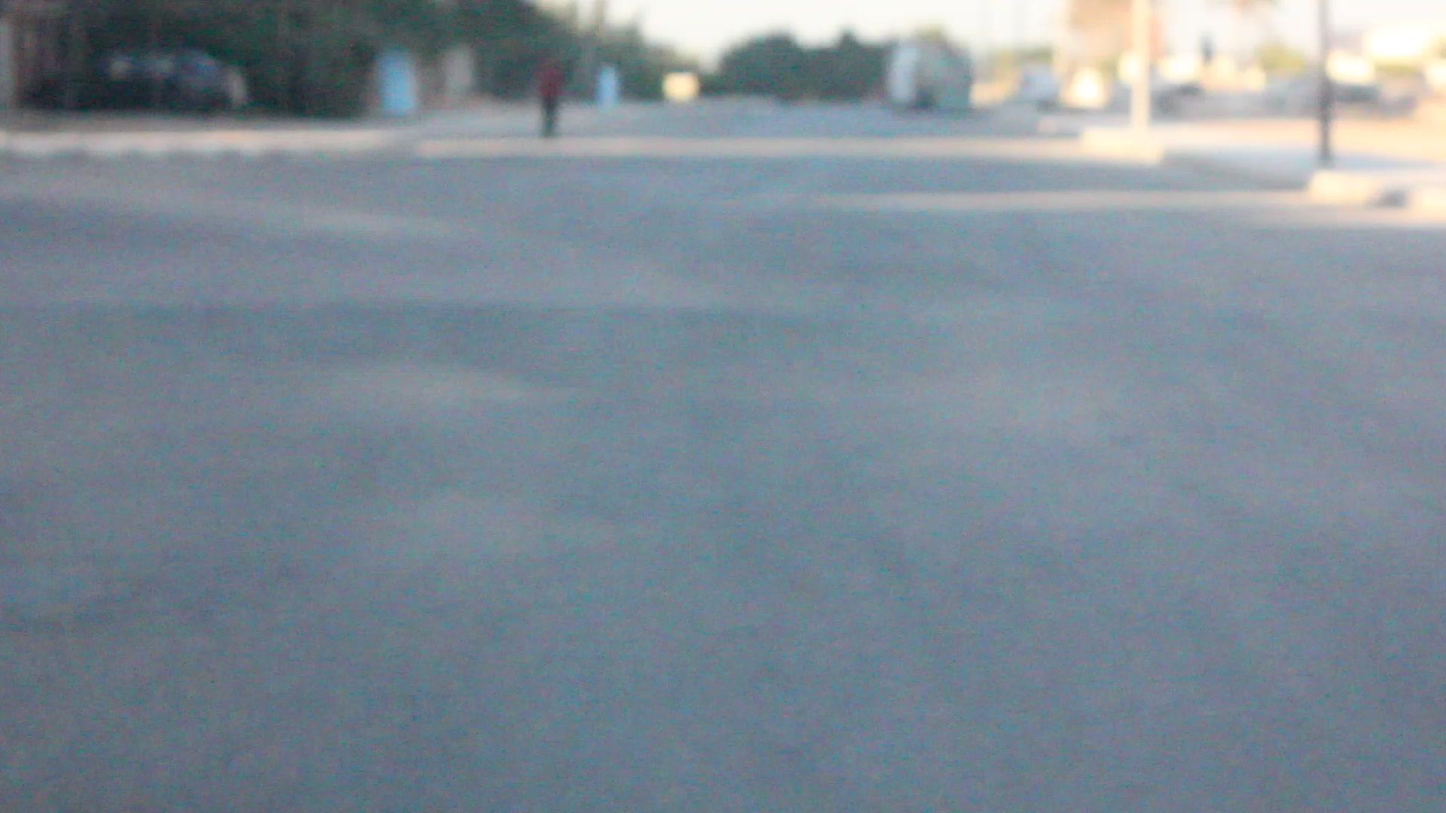Bump: (8, 284, 1446, 369)
